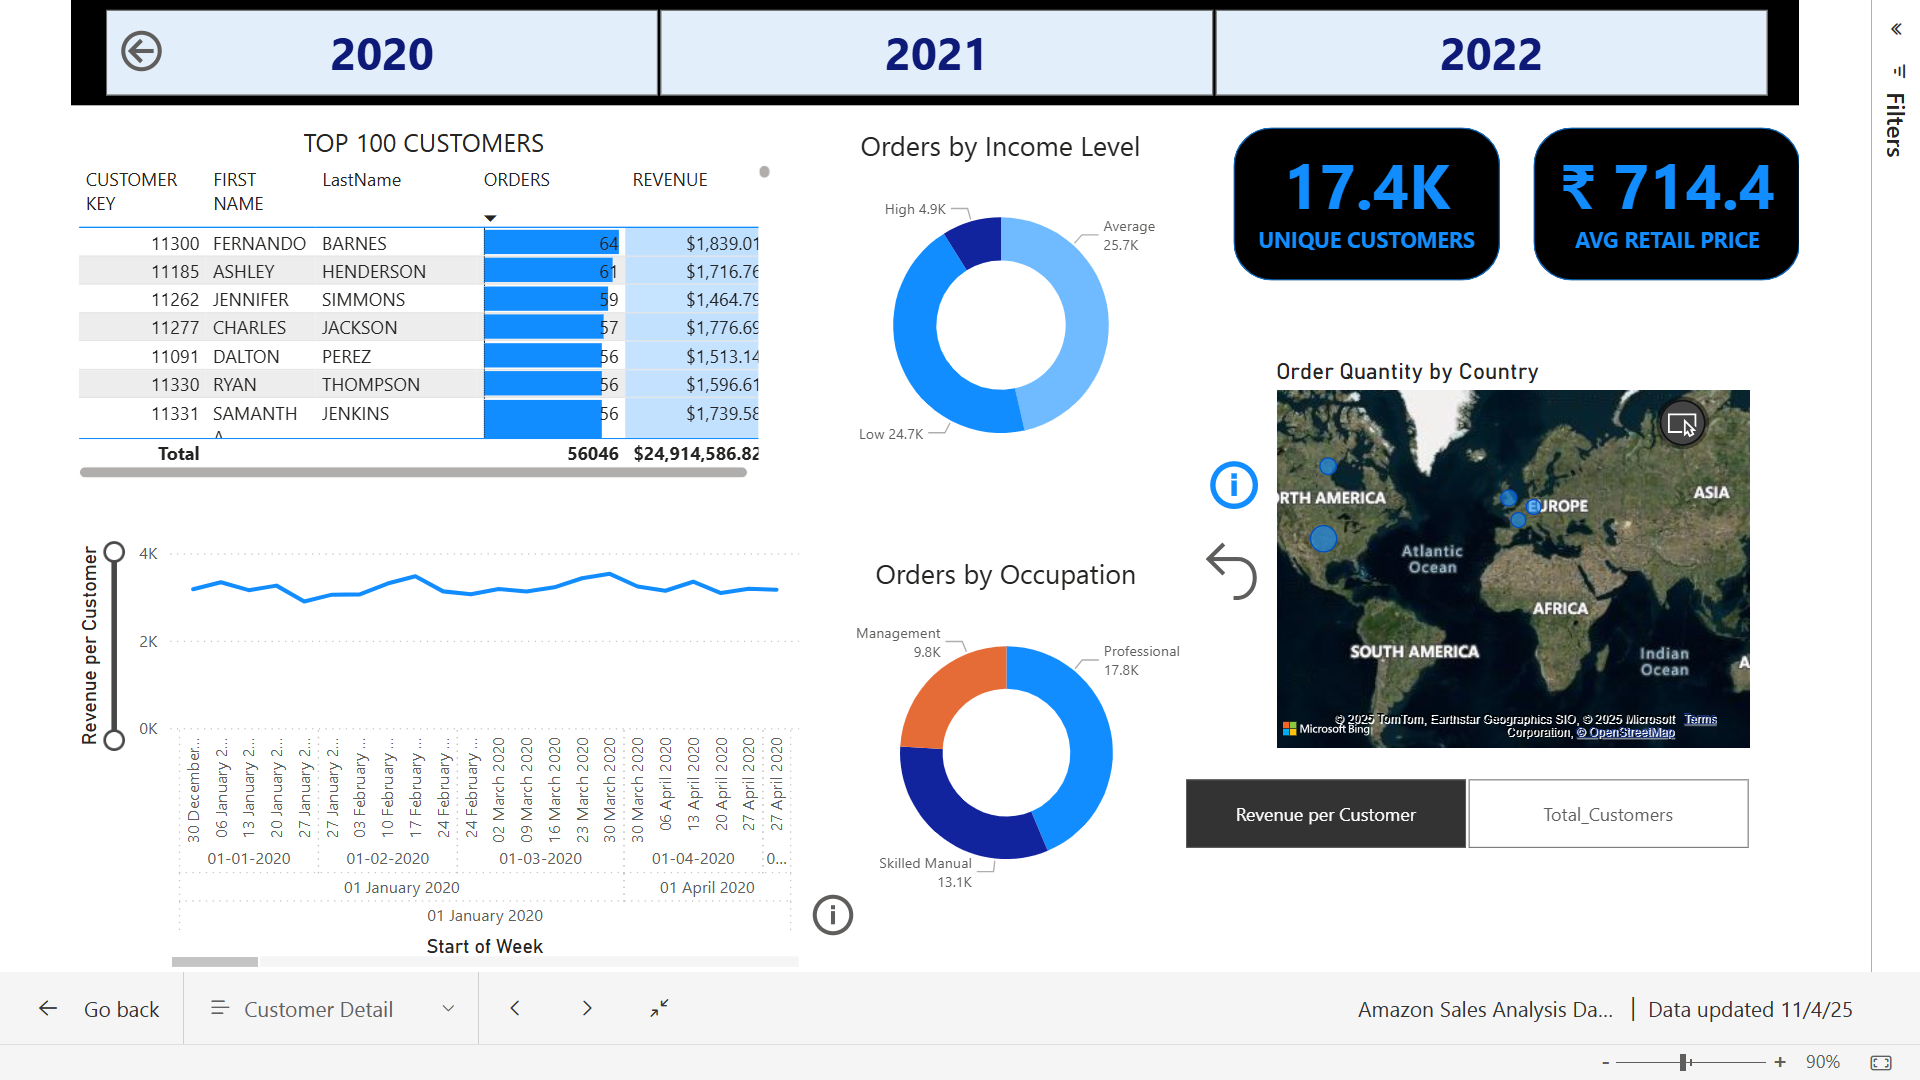

This screenshot's page, from the dashboard's own definition file:
{"tool":"powerbi","page":{"name":"Customer Detail","canvas":[1280,720],"ordinal":2},"visuals":[{"type":"shape","title":"KPI Card","box":[861.4,93.9,197.5,113.3],"z":0},{"type":"card","fields":{"Values":["Table_Measures.Total_Customers"]},"box":[850.1,93.9,218.6,102],"z":1000},{"type":"shape","title":"KPI Card","box":[1083.3,93.9,197.5,113.3],"z":2000},{"type":"card","fields":{"Values":["Table_Measures.Average Retail Price"]},"box":[1083.3,93.9,197.5,102],"z":3000},{"type":"lineChart","title":"Customers Trends","fields":{"Y":["Table_Measures.Average Revenue per Customer"],"Category":["Calendar Lookup.Start of Year","Calendar Lookup.Start of Quarter","Calendar Lookup.Start of Month","Calendar Lookup.Start of Week","Calendar Lookup.Date"]},"box":[0,395.1,544.1,325.5],"z":4000},{"type":"donutChart","title":"Orders by Income Level","fields":{"Category":["Customer Lookup.Income Level"],"Y":["Table_Measures.Order Quantity"]},"box":[544.1,93.9,288.2,265.6],"z":5000},{"type":"donutChart","title":"Orders by Occupation","fields":{"Y":["Table_Measures.Order Quantity"],"Category":["Customer Lookup.Occupation"]},"box":[553.8,411.3,278.5,265.6],"z":6000},{"type":"tableEx","title":"TOP 100 CUSTOMERS","fields":{"Values":["Customer Lookup.CustomerKey","Customer Lookup.FirstName","Customer Lookup.LastName","Table_Measures.Order Quantity","Table_Measures.Total Revenue"]},"box":[0,92.3,523,267.2],"z":7000},{"type":"map","fields":{"Category":["Territory Lookup.Country"],"Size":["Table_Measures.Order Quantity"]},"box":[887.3,263.9,361.1,294.7],"z":8000},{"type":"slicer","fields":{"Values":["Calendar Lookup.Year"]},"box":[0,0,1280.8,77.7],"z":9000},{"type":"actionButton","box":[32,18,42,40],"z":10000},{"type":"actionButton","box":[544,658,50,40],"z":11000},{"type":"actionButton","box":[838.8,336.8,95.5,45.3],"z":12000},{"type":"actionButton","title":"Clear Filters","box":[832.3,395.1,118.2,55.1],"z":13000},{"type":"slicer","fields":{"Values":["Customer Metric Solution.Customer Metric Solution"]},"box":[799.9,570,466.3,64.8],"z":14000}]}

Visuals, with their boxes on the page's 1280x720 design canvas (x1, y1, x2, y2). These are canvas units, not pixel positions in the 1920x1080 screenshot, which may show the page scaled, cropped or inside an application window:
"KPI Card" shape: {"left": 861, "top": 94, "right": 1059, "bottom": 207}
card - Table_Measures.Total_Customers: {"left": 850, "top": 94, "right": 1069, "bottom": 196}
"KPI Card" shape: {"left": 1083, "top": 94, "right": 1281, "bottom": 207}
card - Table_Measures.Average Retail Price: {"left": 1083, "top": 94, "right": 1281, "bottom": 196}
"Customers Trends" lineChart: {"left": 0, "top": 395, "right": 544, "bottom": 721}
"Orders by Income Level" donutChart: {"left": 544, "top": 94, "right": 832, "bottom": 360}
"Orders by Occupation" donutChart: {"left": 554, "top": 411, "right": 832, "bottom": 677}
"TOP 100 CUSTOMERS" tableEx: {"left": 0, "top": 92, "right": 523, "bottom": 360}
map - Territory Lookup.Country x Table_Measures.Order Quantity: {"left": 887, "top": 264, "right": 1248, "bottom": 559}
slicer - Calendar Lookup.Year: {"left": 0, "top": 0, "right": 1281, "bottom": 78}
actionButton: {"left": 32, "top": 18, "right": 74, "bottom": 58}
actionButton: {"left": 544, "top": 658, "right": 594, "bottom": 698}
actionButton: {"left": 839, "top": 337, "right": 934, "bottom": 382}
"Clear Filters" actionButton: {"left": 832, "top": 395, "right": 950, "bottom": 450}
slicer - Customer Metric Solution.Customer Metric Solution: {"left": 800, "top": 570, "right": 1266, "bottom": 635}
